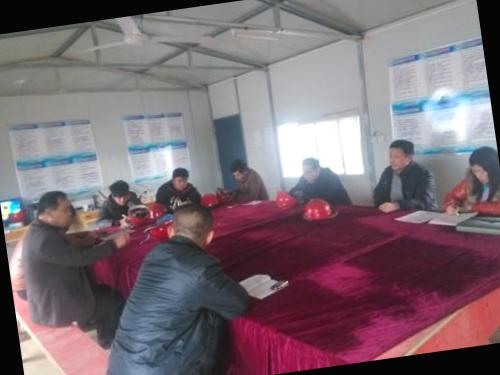no_helmet: (160, 194, 220, 258), (30, 182, 79, 234), (462, 138, 500, 194), (381, 133, 419, 173), (98, 176, 134, 210), (297, 152, 329, 185), (225, 156, 250, 184), (168, 164, 192, 190)
